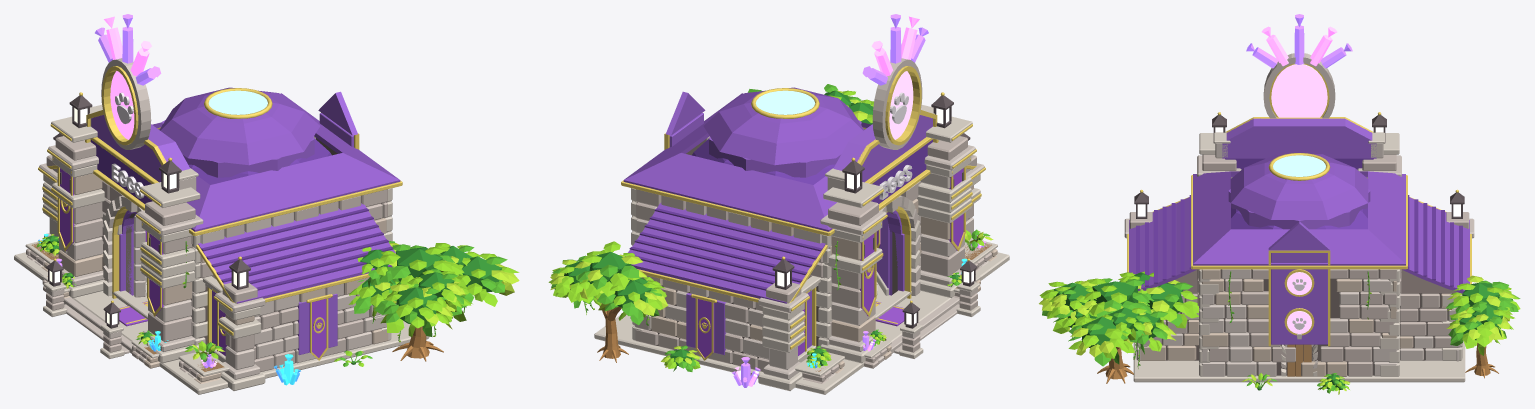
Rendered from TowerOfPets_Hatchery.fbx.
3 renders of one model, left to right at view 1: azimuth 30°, elevation 25°; view 2: azimuth 150°, elevation 25°; view 3: azimuth 270°, elevation 25°, orthographic. The views are drawn at different scales.
Visible parts, largest first — view 1: Hatchery_Roof__Hatch_Roof, Hatchery_Pillars__Castle_Trim, Hatchery_Land_Tree_Large_High_15__Leaves_Light, Hatchery_Wings__Castle_Stone_Light, Hatchery_Roof__Hatch_Roof_Dark, Hatchery_Pillars__Castle_Stone, Hatchery_Floor__Castle_Trim, Hatchery_Pillars__Castle_Stone_Light, Hatchery_Land_Tree_Large_High_15__Leaves_Dark, Hatchery_Wings__Castle_Stone, Hatchery_Land_Tree_Large_High_15__Leaves_Mid, Hatchery_Roof__Gold (+35 smaller); view 2: Hatchery_Roof__Hatch_Roof, Hatchery_Pillars__Castle_Trim, Hatchery_Roof__Hatch_Roof_Dark, Hatchery_Floor__Castle_Trim, Hatchery_Wings__Castle_Stone, Hatchery_Pillars__Castle_Stone, Hatchery_Pillars__Castle_Stone_Light, Hatchery_Wings__Castle_Stone_Light, Hatchery_Wings__Castle_Trim, Hatchery_Roof__Gold, Hatchery_Land_Tree_Medium_High_14__Leaves_Light, Hatchery_Facade__Castle_Trim (+38 smaller); view 3: Hatchery_Roof__Hatch_Roof, Hatchery_Sides_Back__Castle_Stone, Hatchery_Parapet__Hatch_Purple, Hatchery_Sides_Back__Castle_Stone_Light, Hatchery_Sides_Back__Hatch_Purple, Hatchery_Floor__Castle_Trim, Hatchery_Roof__Hatch_Roof_Dark, Hatchery_Land_Tree_Large_High_15__Leaves_Light, Hatchery_Sides_Back__Castle_Stone_Warm, Hatchery_Wings__Castle_Stone, Hatchery_Land_Tree_Large_High_15__Leaves_Dark, Hatchery_Egg_Emblem__Hatch_Egg_Glow (+26 smaller).
Part boxes in pixels (x1=…): Hatchery_Roof__Hatch_Roof: x1=152, y1=87, x2=400, y2=303; Hatchery_Pillars__Castle_Trim: x1=51, y1=116, x2=200, y2=363; Hatchery_Land_Tree_Large_High_15__Leaves_Light: x1=348, y1=243, x2=519, y2=341; Hatchery_Wings__Castle_Stone_Light: x1=39, y1=163, x2=386, y2=379; Hatchery_Roof__Hatch_Roof_Dark: x1=201, y1=208, x2=392, y2=290; Hatchery_Pillars__Castle_Stone: x1=55, y1=136, x2=195, y2=342; Hatchery_Floor__Castle_Trim: x1=14, y1=252, x2=429, y2=394; Hatchery_Pillars__Castle_Stone_Light: x1=48, y1=145, x2=203, y2=351; Hatchery_Land_Tree_Large_High_15__Leaves_Dark: x1=360, y1=246, x2=501, y2=323; Hatchery_Wings__Castle_Stone: x1=46, y1=155, x2=380, y2=371; Hatchery_Land_Tree_Large_High_15__Leaves_Mid: x1=354, y1=241, x2=507, y2=337; Hatchery_Roof__Gold: x1=47, y1=88, x2=402, y2=302; Hatchery_Roof__Hatch_Roof: x1=623, y1=87, x2=871, y2=303; Hatchery_Pillars__Castle_Trim: x1=820, y1=116, x2=975, y2=363; Hatchery_Roof__Hatch_Roof_Dark: x1=629, y1=208, x2=822, y2=290; Hatchery_Floor__Castle_Trim: x1=594, y1=252, x2=1009, y2=394; Hatchery_Wings__Castle_Stone: x1=634, y1=155, x2=976, y2=371; Hatchery_Pillars__Castle_Stone: x1=828, y1=136, x2=967, y2=308; Hatchery_Pillars__Castle_Stone_Light: x1=820, y1=145, x2=975, y2=351; Hatchery_Wings__Castle_Stone_Light: x1=665, y1=163, x2=984, y2=379; Hatchery_Wings__Castle_Trim: x1=632, y1=174, x2=983, y2=390; Hatchery_Roof__Gold: x1=621, y1=88, x2=976, y2=302; Hatchery_Land_Tree_Medium_High_14__Leaves_Light: x1=548, y1=241, x2=666, y2=320; Hatchery_Facade__Castle_Trim: x1=816, y1=200, x2=920, y2=348; Hatchery_Roof__Hatch_Roof: x1=1129, y1=154, x2=1469, y2=293; Hatchery_Sides_Back__Castle_Stone: x1=1197, y1=269, x2=1401, y2=376; Hatchery_Parapet__Hatch_Purple: x1=1222, y1=118, x2=1376, y2=158; Hatchery_Sides_Back__Castle_Stone_Light: x1=1201, y1=269, x2=1400, y2=376; Hatchery_Sides_Back__Hatch_Purple: x1=1268, y1=221, x2=1330, y2=344; Hatchery_Floor__Castle_Trim: x1=1133, y1=341, x2=1465, y2=382; Hatchery_Roof__Hatch_Roof_Dark: x1=1136, y1=195, x2=1462, y2=289; Hatchery_Land_Tree_Large_High_15__Leaves_Light: x1=1039, y1=271, x2=1198, y2=368; Hatchery_Sides_Back__Castle_Stone_Warm: x1=1197, y1=269, x2=1397, y2=376; Hatchery_Wings__Castle_Stone: x1=1129, y1=212, x2=1469, y2=357; Hatchery_Land_Tree_Large_High_15__Leaves_Dark: x1=1053, y1=272, x2=1183, y2=347; Hatchery_Egg_Emblem__Hatch_Egg_Glow: x1=1271, y1=64, x2=1327, y2=117.
Bounding box in the file's own units: 5932 × 5340 × 8434.
